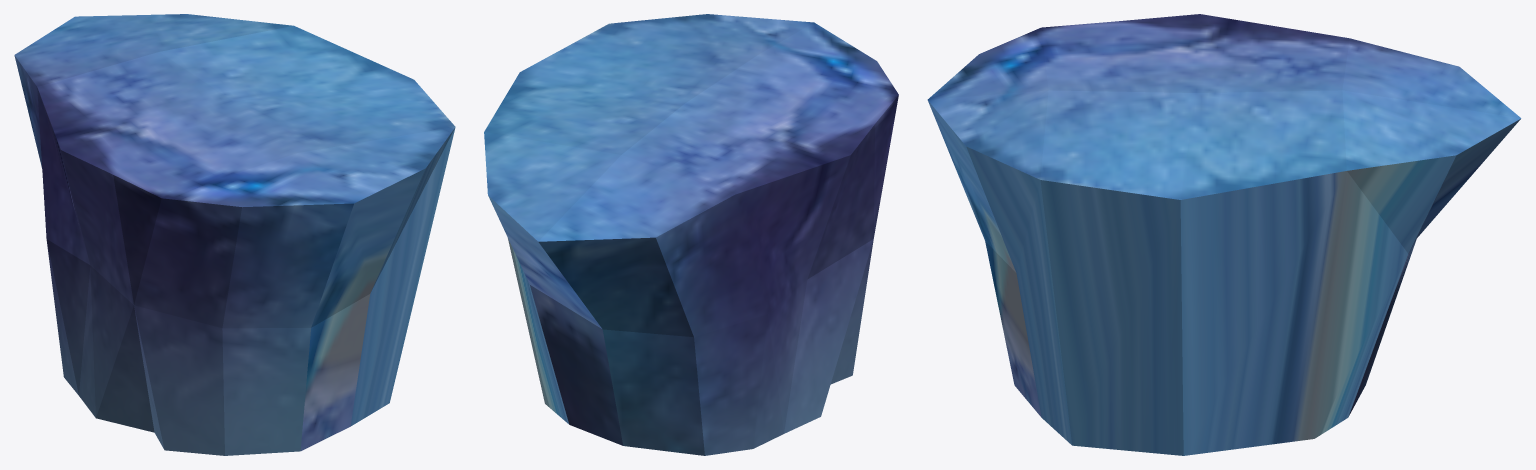
File: scenes_cave_cliff01a.FBX
The picture shows the model from 3 angles, left to right: view 1: azimuth 30°, elevation 25°; view 2: azimuth 150°, elevation 25°; view 3: azimuth 270°, elevation 25°; orthographic projection. The views are drawn at different scales.
Visible parts, largest first — view 1: scenes_cave_cliff01a; view 2: scenes_cave_cliff01a; view 3: scenes_cave_cliff01a.
Boxes of the visible parts, x1=… form: scenes_cave_cliff01a: x1=14, y1=14, x2=455, y2=455; scenes_cave_cliff01a: x1=484, y1=14, x2=898, y2=455; scenes_cave_cliff01a: x1=927, y1=14, x2=1521, y2=455.
Size of the model in its own units: 506 by 398 by 711.
